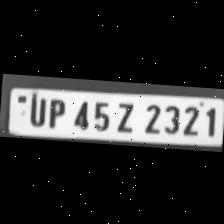1: (199, 103, 218, 137)
2: (137, 99, 161, 134), (178, 101, 201, 136)
3: (159, 100, 181, 134)
4: (67, 96, 91, 129)
5: (89, 96, 112, 130)
P: (43, 94, 67, 128)
U: (24, 93, 48, 126)
Z: (111, 98, 137, 134)
